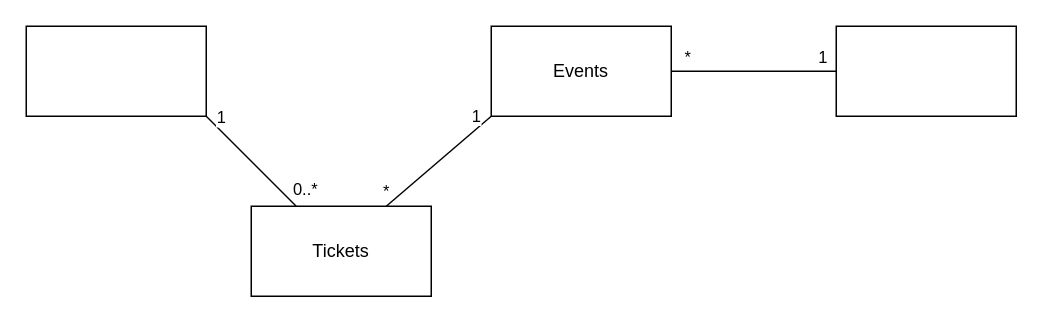
Some shapes in this 1043 by 323 pixel diagram are drawn without their labels. Each missing label, with the centre of its shape:
"Organiz er" belongs at point 925,70.
"User" belongs at point 115,70.
